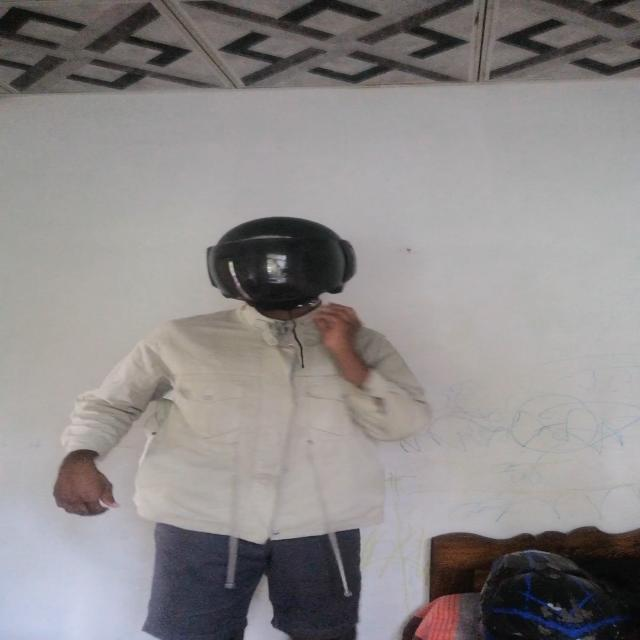Helmet_Wearer: (203, 213, 370, 329)
Jacket_Wearer: (77, 301, 446, 538)
Person: (83, 213, 446, 635)
